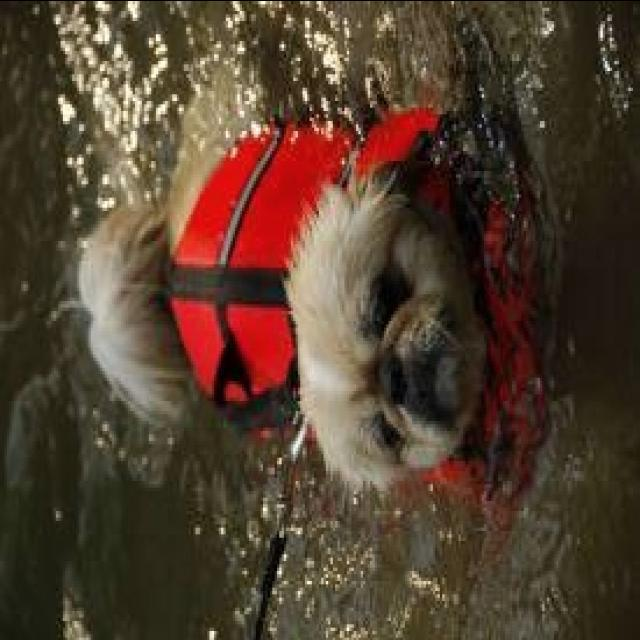pekinese: (74, 103, 540, 510)
